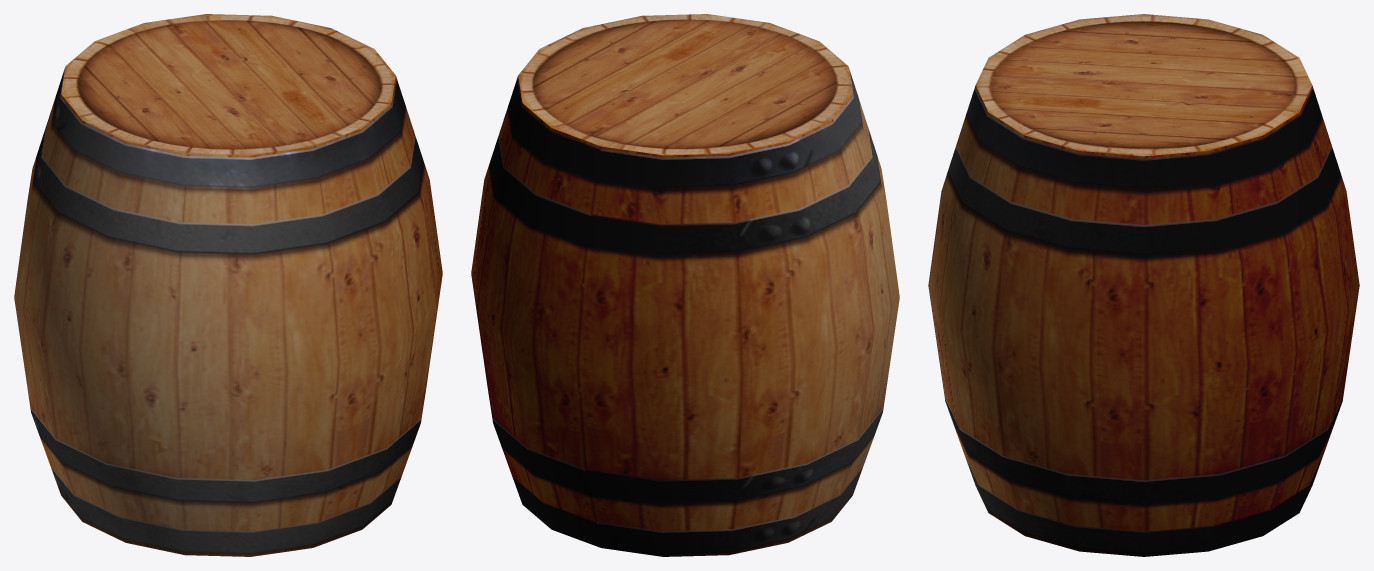
File: barrel.fbx
3 views of the same model, side by side, from view 1: azimuth 30°, elevation 25°; view 2: azimuth 150°, elevation 25°; view 3: azimuth 270°, elevation 25° (orthographic).
Visible parts, largest first — view 1: barrel2; view 2: barrel2; view 3: barrel2.
Part boxes in pixels (left/top/right/bottom): barrel2: left=14, top=14, right=442, bottom=556; barrel2: left=471, top=14, right=899, bottom=556; barrel2: left=928, top=14, right=1359, bottom=556.
Size of the model in its own units: 40.06 by 41.05 by 40.06.
